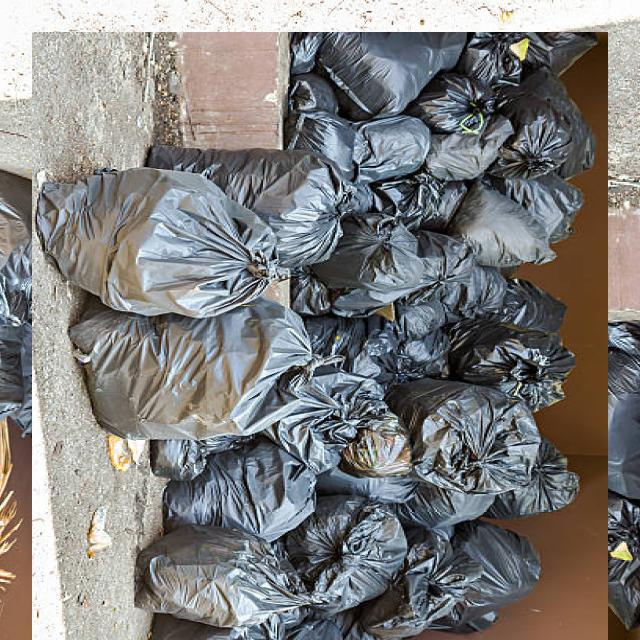garbage: (16, 48, 624, 640)
